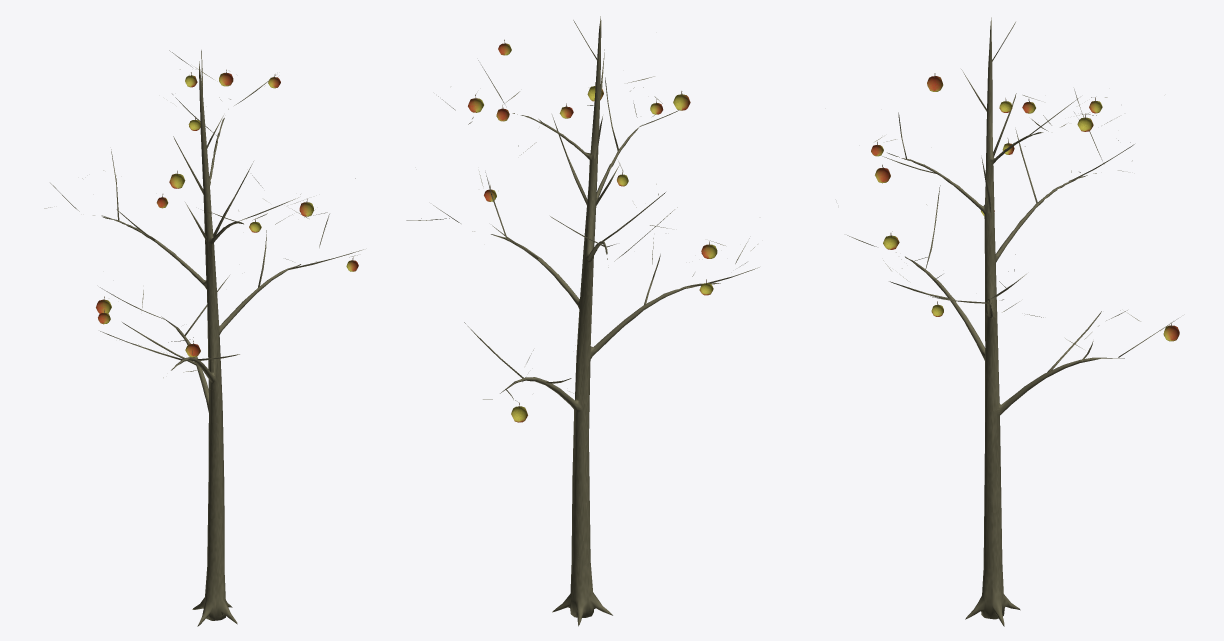
File: jablon_5_daleko.glb
3 views of the same model, side by side, from view 1: azimuth 30°, elevation 25°; view 2: azimuth 150°, elevation 25°; view 3: azimuth 270°, elevation 25° (orthographic). The views are drawn at different scales.
Parts seen in each view (by area): view 1: 01_Young_trunk_and_branches.005, 02_Young_twigs.005, 05_Apples.005; view 2: 01_Young_trunk_and_branches.005, 02_Young_twigs.005, 05_Apples.005; view 3: 01_Young_trunk_and_branches.005, 02_Young_twigs.005, 05_Apples.005.
Part boxes in pixels (x1=…): 01_Young_trunk_and_branches.005: x1=93, y1=61, x2=316, y2=626; 02_Young_twigs.005: x1=44, y1=50, x2=363, y2=389; 05_Apples.005: x1=96, y1=73, x2=358, y2=357; 01_Young_trunk_and_branches.005: x1=472, y1=16, x2=720, y2=626; 02_Young_twigs.005: x1=406, y1=20, x2=759, y2=402; 05_Apples.005: x1=468, y1=43, x2=717, y2=422; 01_Young_trunk_and_branches.005: x1=896, y1=17, x2=1124, y2=626; 02_Young_twigs.005: x1=847, y1=22, x2=1178, y2=372; 05_Apples.005: x1=871, y1=76, x2=1179, y2=341.
Size of what is drawn, in the model's own units: 1.5 by 2.65 by 1.61.
3 materials, 2 textured.
